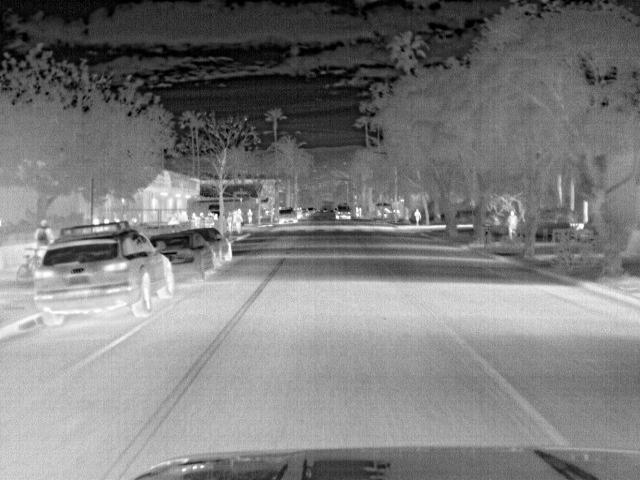car: (36, 228, 176, 328), (150, 234, 220, 290), (187, 227, 234, 261), (278, 206, 299, 223), (334, 206, 353, 222)
person: (504, 208, 519, 242), (35, 218, 54, 244), (232, 211, 246, 235), (411, 207, 423, 228), (247, 207, 255, 226)
